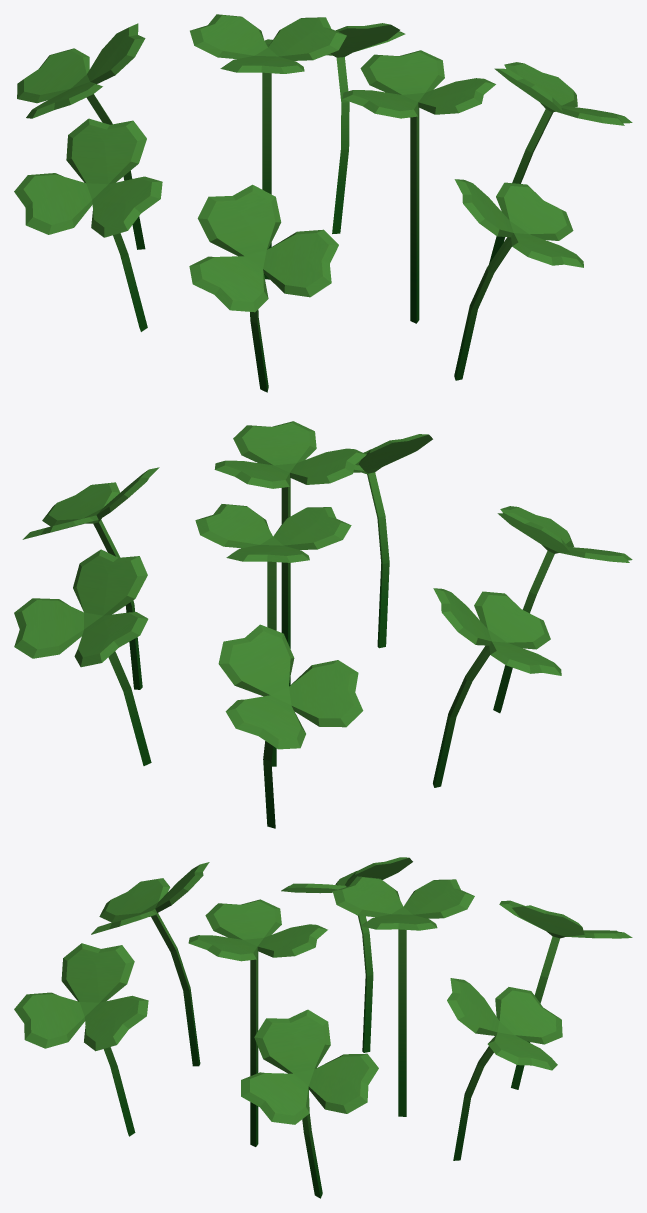
Rendered from Clover_Group.fbx.
3 views of the same model, one above another, from view 1: azimuth 30°, elevation 25°; view 2: azimuth 150°, elevation 25°; view 3: azimuth 270°, elevation 25° (orthographic). The views are drawn at different scales.
Visible parts, largest first — view 1: Clover_Group; view 2: Clover_Group; view 3: Clover_Group.
Part boxes in pixels (bbox=[...]): Clover_Group: bbox=[14, 14, 632, 392]; Clover_Group: bbox=[14, 421, 632, 828]; Clover_Group: bbox=[14, 857, 632, 1198].
Size of the model in its own units: 75.11 by 30.97 by 79.3.
